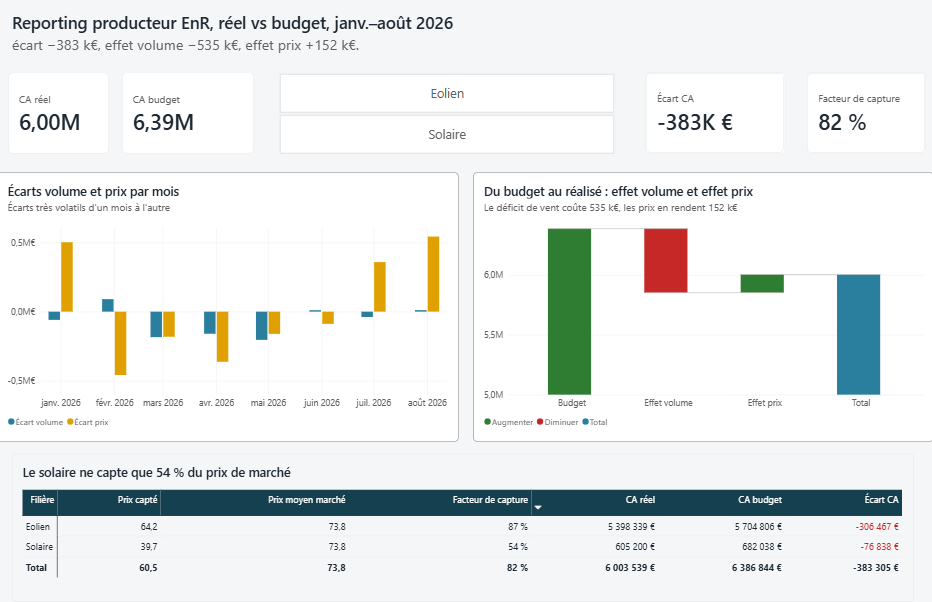

What the dashboard file says about the page in this screenshot:
{"tool":"powerbi","page":{"name":"Réel vs budget","canvas":[1500,3000],"ordinal":0},"visuals":[{"type":"pivotTable","title":" Le solaire ne capte que 54 % du prix de marché","fields":{"Rows":["Filiere.filiere"],"Values":["v_revenus_horaires.Prix capté","v_revenus_horaires.Prix moyen marché","v_revenus_horaires.Facteur de capture","v_revenus_horaires.CA réel","v_revenus_horaires.CA budget","v_revenus_horaires.Écart CA"]},"box":[23.3,741.7,1443.3,238.3],"z":1000},{"type":"cardVisual","fields":{"Data":["v_revenus_horaires.CA réel"]},"box":[18.6,132.9,161.4,130],"z":2000},{"type":"cardVisual","fields":{"Data":["v_revenus_horaires.CA budget"]},"box":[200,132.9,211.4,130],"z":3000},{"type":"cardVisual","fields":{"Data":["v_revenus_horaires.Écart CA"]},"box":[1037.1,132.9,222.9,130],"z":4000},{"type":"cardVisual","fields":{"Data":["v_revenus_horaires.Facteur de capture"]},"box":[1295.7,132.9,190,130],"z":5000},{"type":"clusteredColumnChart","title":" Écarts volume et prix par mois","fields":{"Category":["Calendrier.Mois"],"Y":["v_revenus_horaires.Écart volume","v_revenus_horaires.Écart prix"]},"box":[0,291.7,738.3,430],"z":6000},{"type":"waterfallChart","title":" Du budget au réalisé : effet volume et effet prix","fields":{"Category":["Pont.Étape"],"Y":["v_revenus_horaires.Montant pont"]},"box":[761.7,291.7,738,430],"z":7000},{"type":"slicer","title":"Répartition filière énergétique","fields":{"Values":["Filiere.filiere"]},"box":[431.4,132.9,574.3,131.4],"z":8000},{"type":"textbox","title":"Reporting producteur EnR, réel vs budget, janv.–août 2026","box":[24,33,900,80],"z":9000}]}

Visuals, with their boxes on the page's 1500x3000 design canvas (x1, y1, x2, y2). These are canvas units, not pixel positions in the 932x602 screenshot, which may show the page scaled, cropped or inside an application window:
" Le solaire ne capte que 54 % du prix de marché" pivotTable: locate(23, 742, 1467, 980)
cardVisual - v_revenus_horaires.CA réel: locate(19, 133, 180, 263)
cardVisual - v_revenus_horaires.CA budget: locate(200, 133, 411, 263)
cardVisual - v_revenus_horaires.Écart CA: locate(1037, 133, 1260, 263)
cardVisual - v_revenus_horaires.Facteur de capture: locate(1296, 133, 1486, 263)
" Écarts volume et prix par mois" clusteredColumnChart: locate(0, 292, 738, 722)
" Du budget au réalisé : effet volume et effet prix" waterfallChart: locate(762, 292, 1500, 722)
"Répartition filière énergétique" slicer: locate(431, 133, 1006, 264)
"Reporting producteur EnR, réel vs budget, janv.–août 2026" textbox: locate(24, 33, 924, 113)
